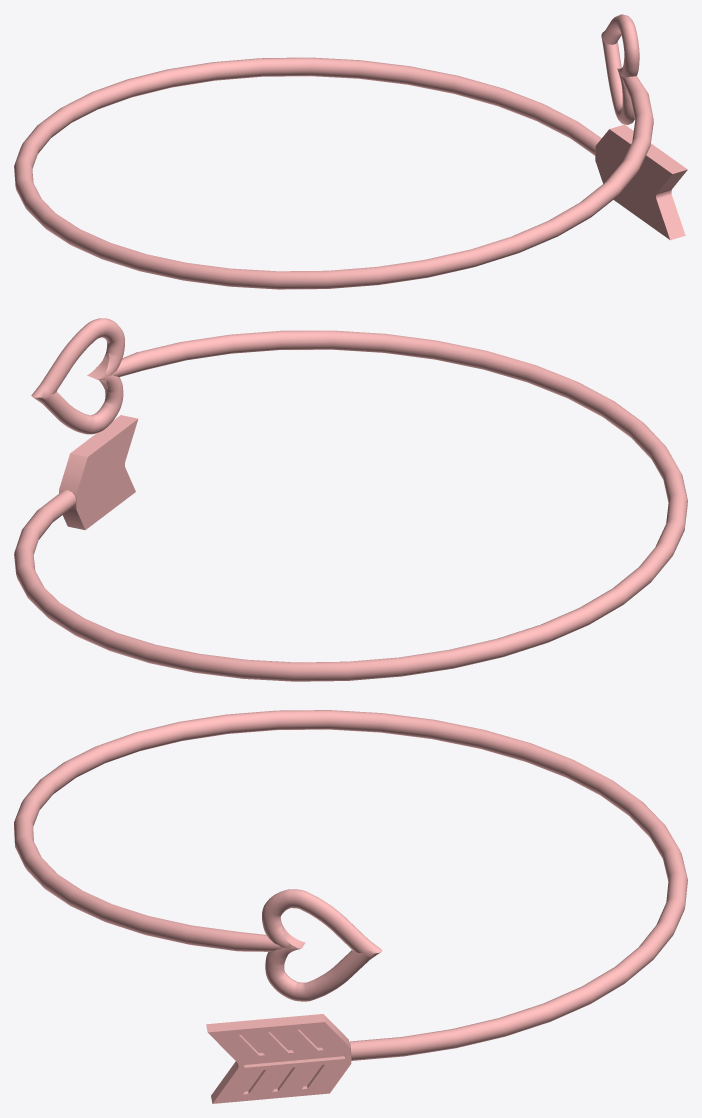
File: 6-pink.gltf
3 views of the same model, one above another, from view 1: azimuth 30°, elevation 25°; view 2: azimuth 150°, elevation 25°; view 3: azimuth 270°, elevation 25° (orthographic). The views are drawn at different scales.
Parts seen in each view (by area): view 1: Helix002, Line028, Line026; view 2: Helix002, Line028, Line026; view 3: Helix002, Line028, Line026.
Boxes of the visible parts, bbox=[...] form: Helix002: bbox=[14, 57, 653, 289]; Line028: bbox=[595, 124, 687, 240]; Line026: bbox=[601, 14, 639, 125]; Helix002: bbox=[14, 330, 687, 681]; Line028: bbox=[59, 415, 138, 530]; Line026: bbox=[31, 318, 124, 434]; Helix002: bbox=[14, 710, 687, 1060]; Line028: bbox=[206, 1014, 351, 1103]; Line026: bbox=[262, 889, 381, 1001].
Size of the model in its own units: 21.08 by 6.87 by 20.57.
